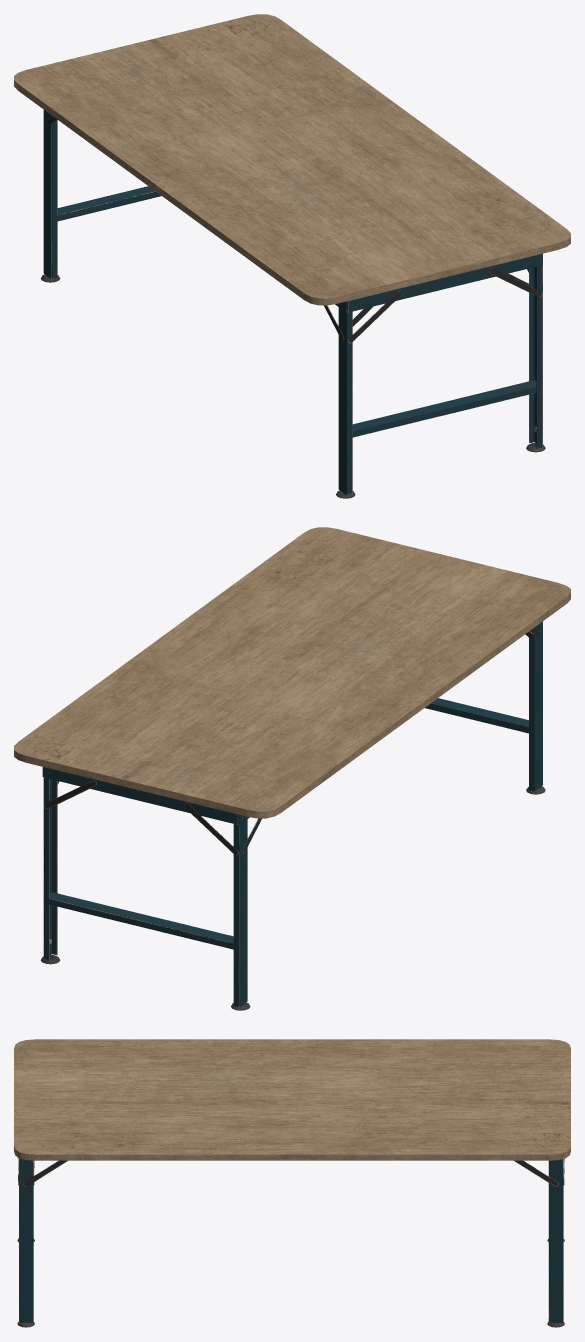
The model's file is workbench_low-poly.glb.
The picture shows the model from 3 angles, top to bottom: view 1: azimuth 30°, elevation 25°; view 2: azimuth 150°, elevation 25°; view 3: azimuth 270°, elevation 25°; orthographic projection. The views are drawn at different scales.
Visible parts, largest first — view 1: work_bench_work_bench_0; view 2: work_bench_work_bench_0; view 3: work_bench_work_bench_0.
Part boxes in pixels (<box>): work_bench_work_bench_0: <box>14,14,570,498</box>; work_bench_work_bench_0: <box>14,527,570,1010</box>; work_bench_work_bench_0: <box>14,1039,570,1327</box>.
Size of the model in its own units: 0.6829 by 0.5122 by 1.4.
Materials: 1 (1 with a texture image).
